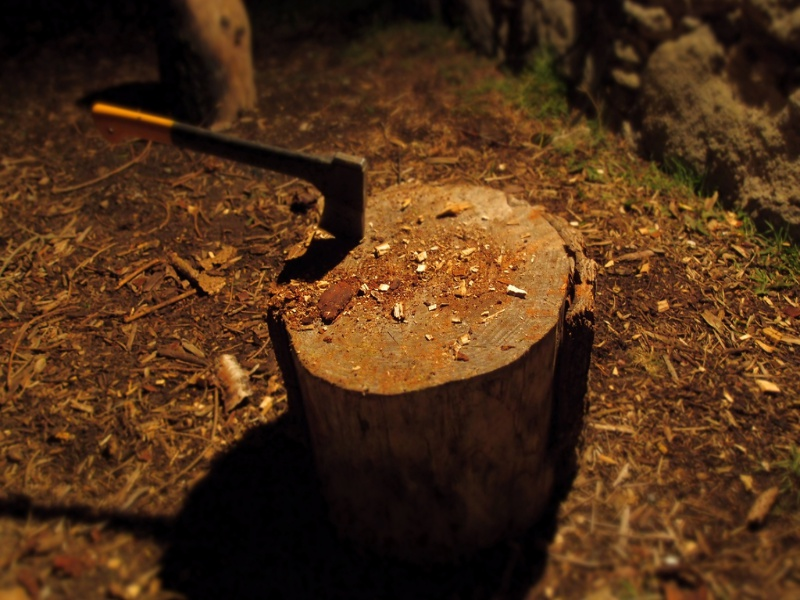axe: (286, 151, 370, 245)
